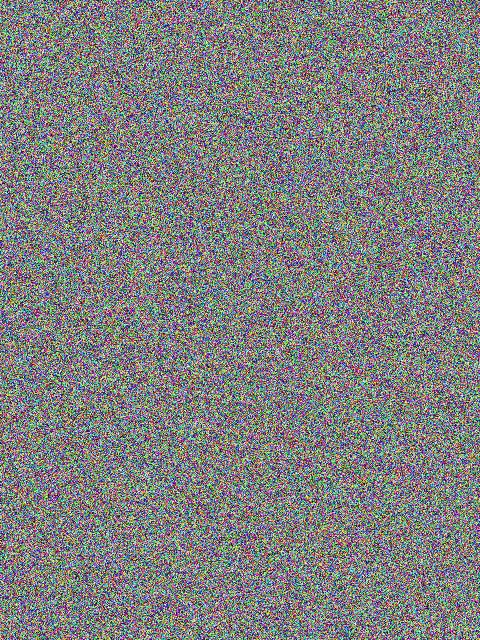bus: (363, 447, 430, 516)
